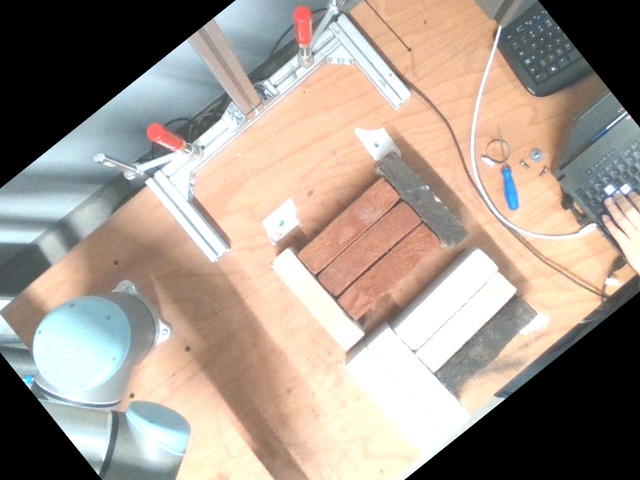brick-side: (342, 347, 448, 459), (365, 326, 471, 438), (394, 248, 499, 352), (433, 292, 538, 396), (413, 271, 518, 374), (296, 179, 401, 275), (336, 223, 441, 319), (318, 201, 422, 297), (375, 150, 471, 251), (269, 249, 363, 351)
